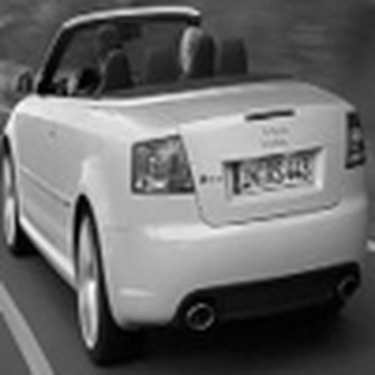car: (14, 10, 365, 350)
